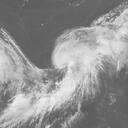cyclone: (51, 25, 110, 77)
